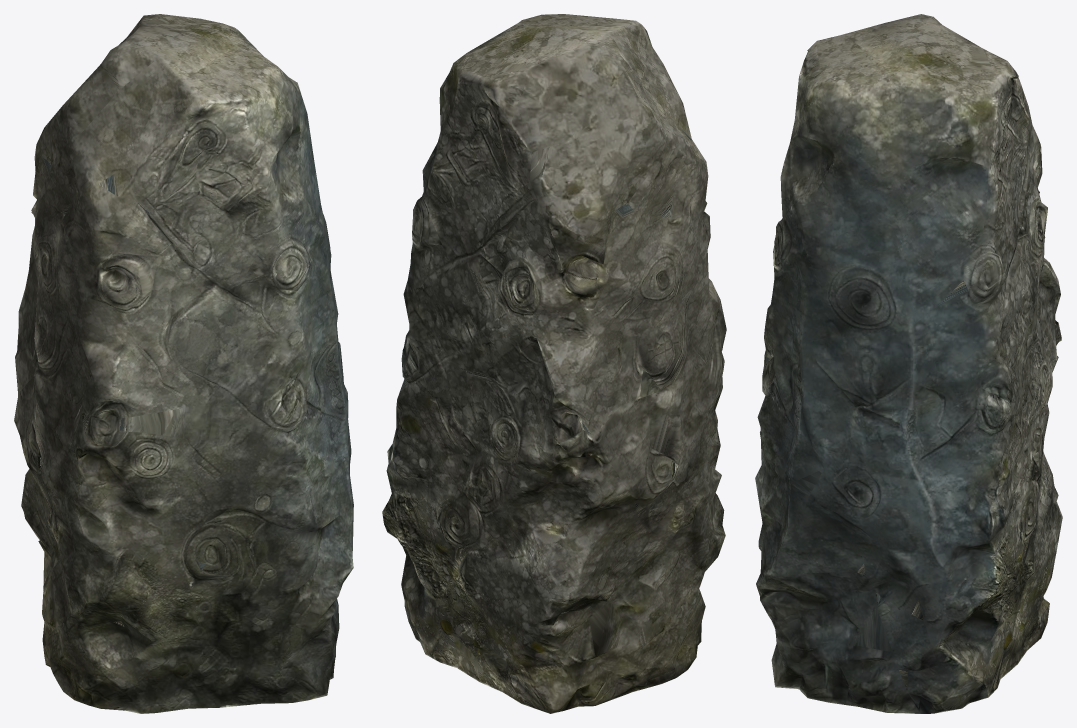
The model's file is monolith_lod1.glb.
3 views of the same model, side by side, from view 1: azimuth 30°, elevation 25°; view 2: azimuth 150°, elevation 25°; view 3: azimuth 270°, elevation 25° (orthographic). The views are drawn at different scales.
Visible parts, largest first — view 1: monolith_lod1; view 2: monolith_lod1; view 3: monolith_lod1.
Part boxes in pixels (x1,y1,x2,y2): monolith_lod1: (14,14,353,713); monolith_lod1: (382,14,726,713); monolith_lod1: (755,14,1062,713).
Size of the model in its own units: 5.72 by 12 by 5.44.
1 material, 1 textured.
